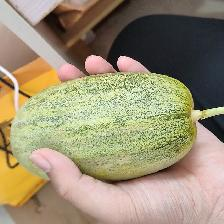gua: (23, 71, 192, 163)
